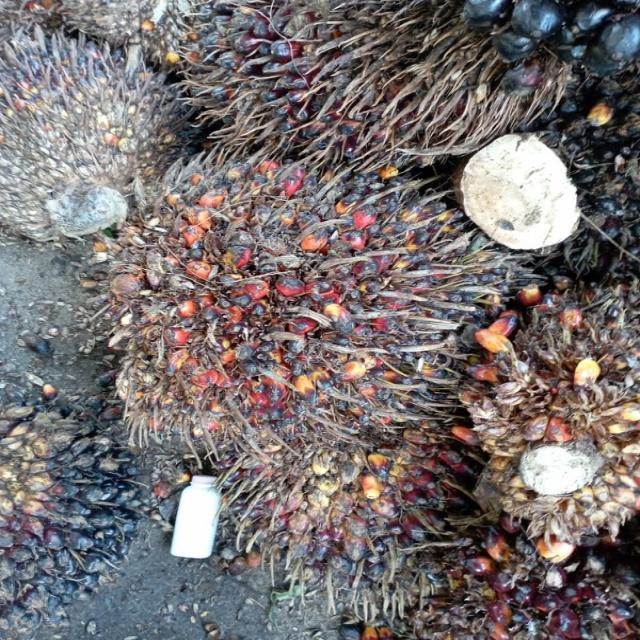fraksi 4: (49, 118, 562, 509)
